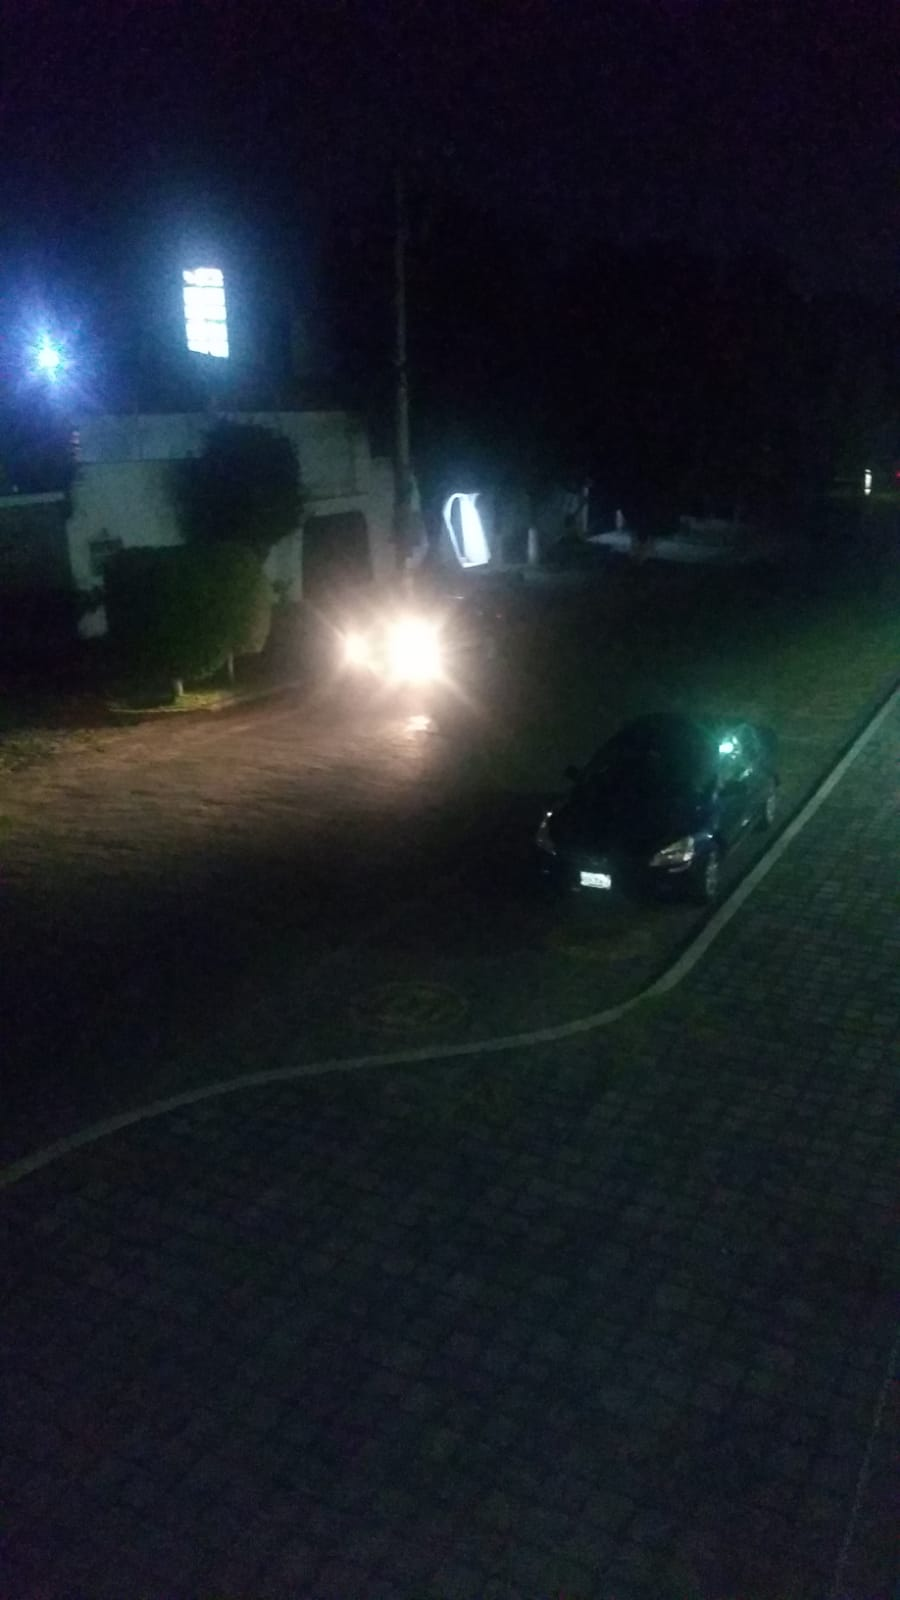Auto: (525, 707, 791, 909)
